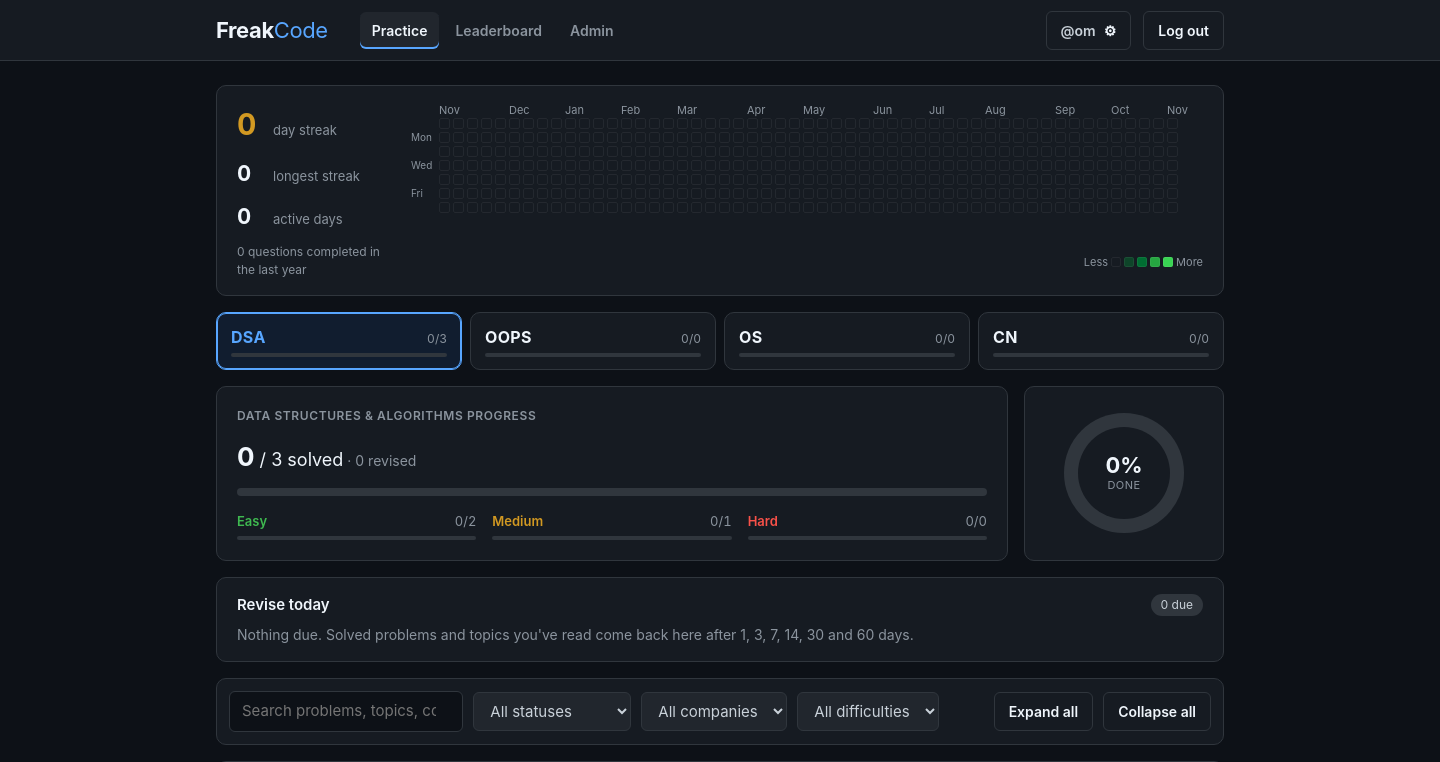
Test: admins get the Admin panel with an overview
Click the button "Admin" at (592, 30), box top-left (558, 12), bottom-right (626, 48)
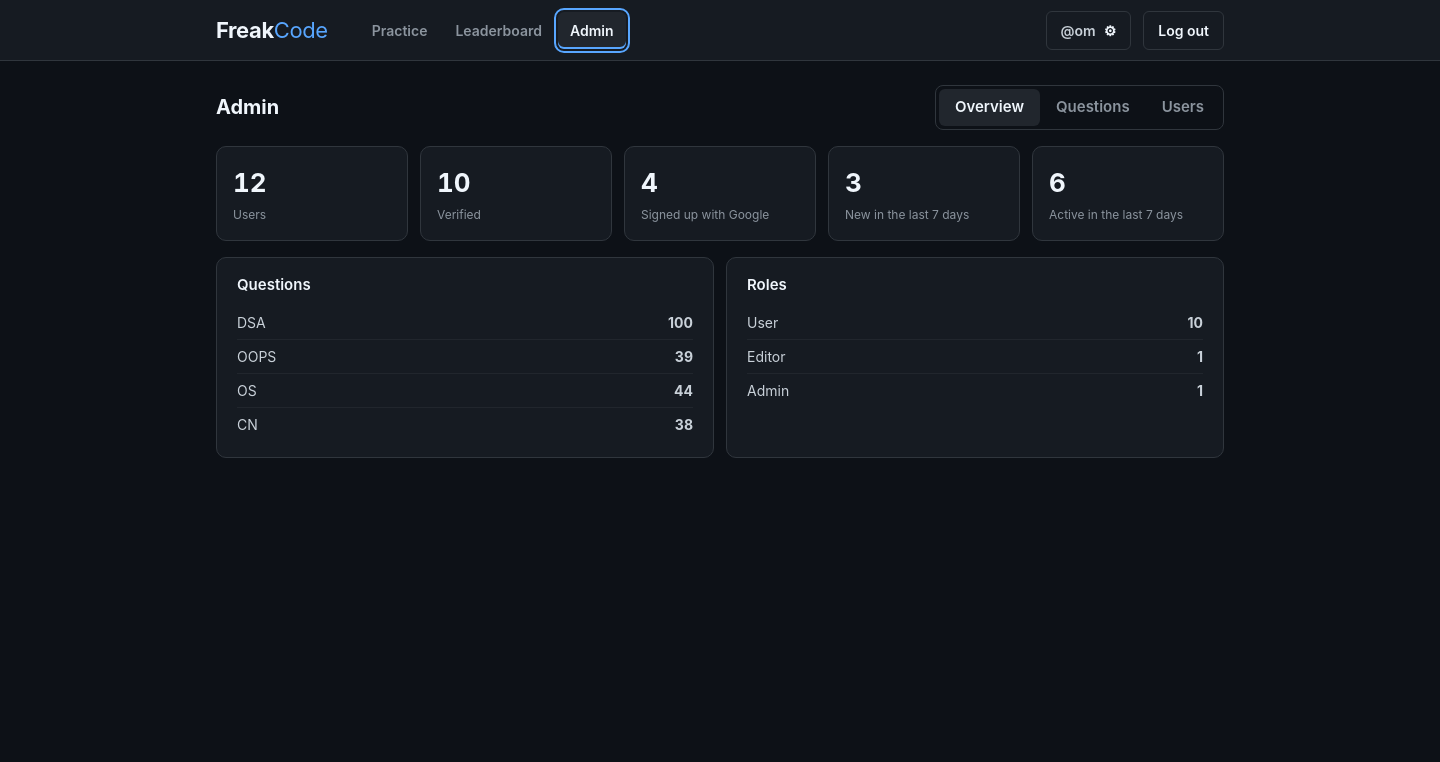
Expected: the text "Active in the last 7 days" is shown, top-left (1049, 206), bottom-right (1183, 222)
Expected: the text "12" is shown, top-left (233, 166), bottom-right (267, 198)
Expected: the tab "Users" is shown, top-left (1146, 89), bottom-right (1220, 126)
